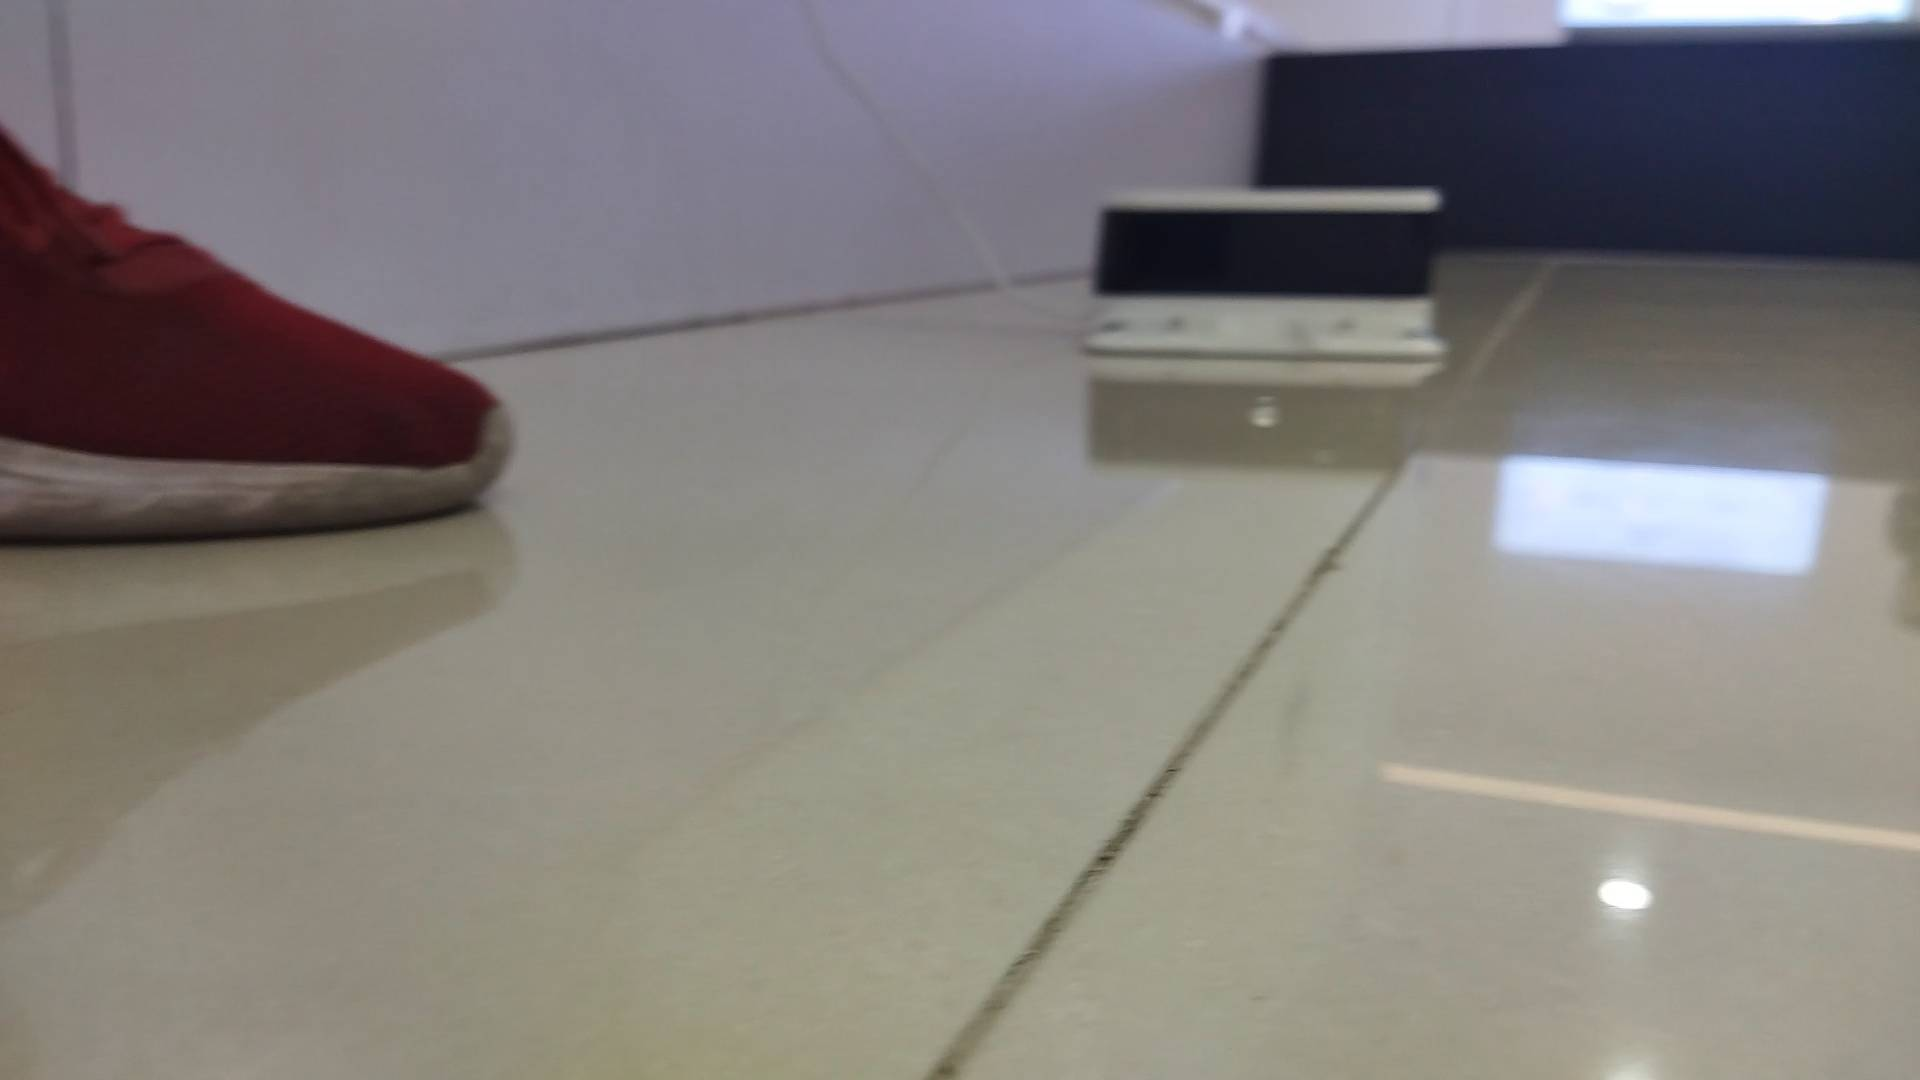recharge seat: (1085, 185, 1460, 361)
